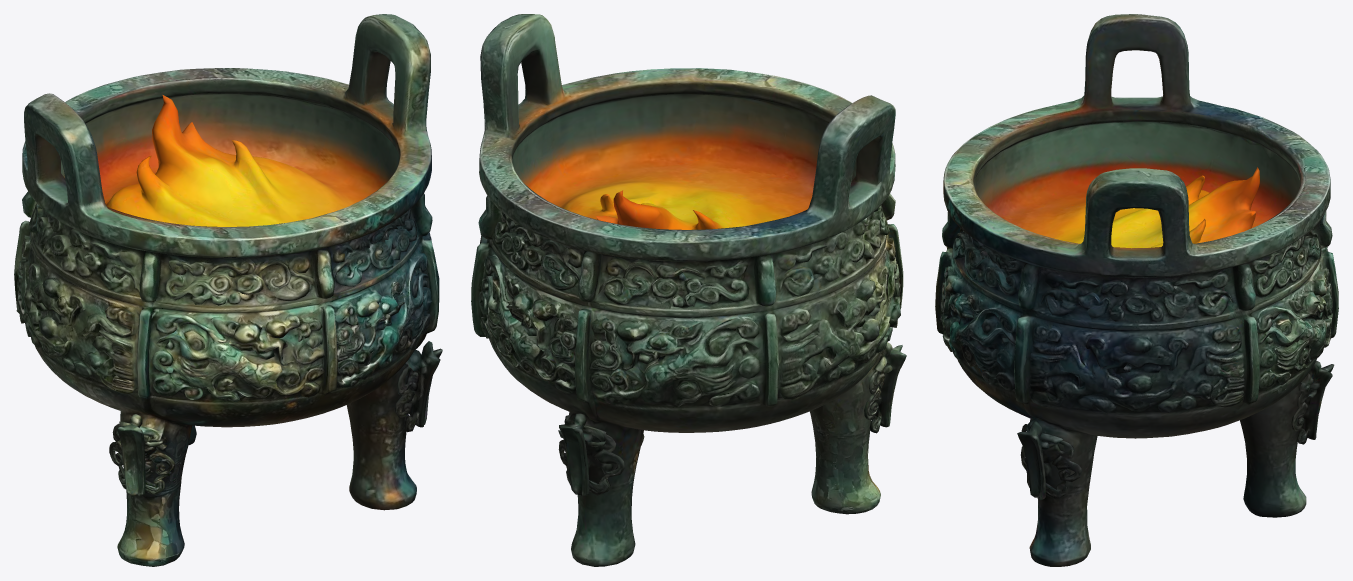
The model's file is furnace.glb.
3 views of the same model, side by side, from view 1: azimuth 30°, elevation 25°; view 2: azimuth 150°, elevation 25°; view 3: azimuth 270°, elevation 25° (orthographic). The views are drawn at different scales.
Visible parts, largest first — view 1: tripo_node_aa67a415-b14e-4a4e-a580-0ffc94d5e434; view 2: tripo_node_aa67a415-b14e-4a4e-a580-0ffc94d5e434; view 3: tripo_node_aa67a415-b14e-4a4e-a580-0ffc94d5e434.
Boxes of the visible parts, x1,y1,x2,y2 form: tripo_node_aa67a415-b14e-4a4e-a580-0ffc94d5e434: (14,14,442,566); tripo_node_aa67a415-b14e-4a4e-a580-0ffc94d5e434: (471,14,906,566); tripo_node_aa67a415-b14e-4a4e-a580-0ffc94d5e434: (935,14,1338,566).
Size of the model in its own units: 0.8865 by 0.9799 by 0.8755.
1 material, 1 textured.
